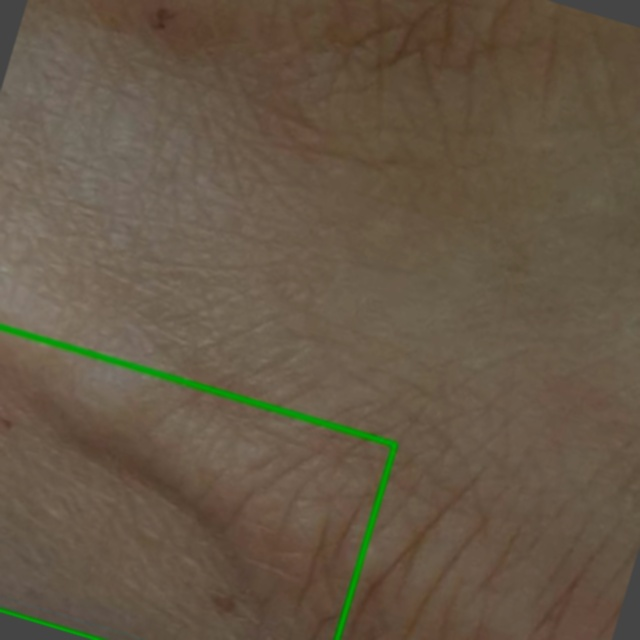Scabies: (0, 325, 396, 639)
